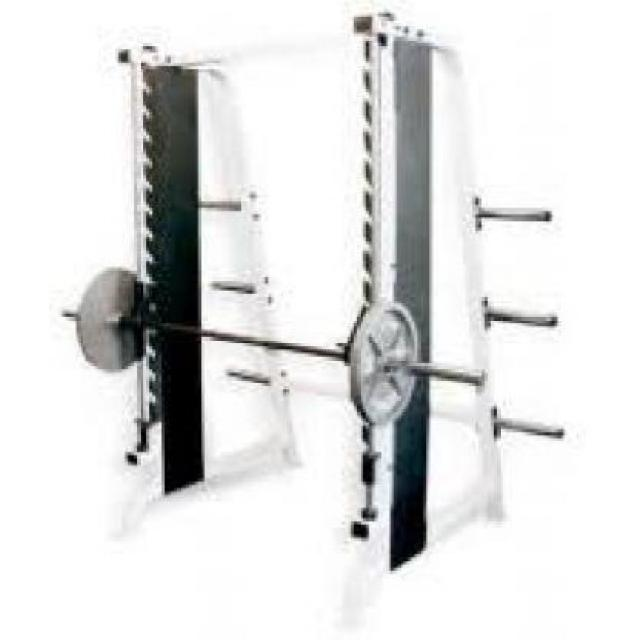smith machine: (64, 9, 564, 576)
